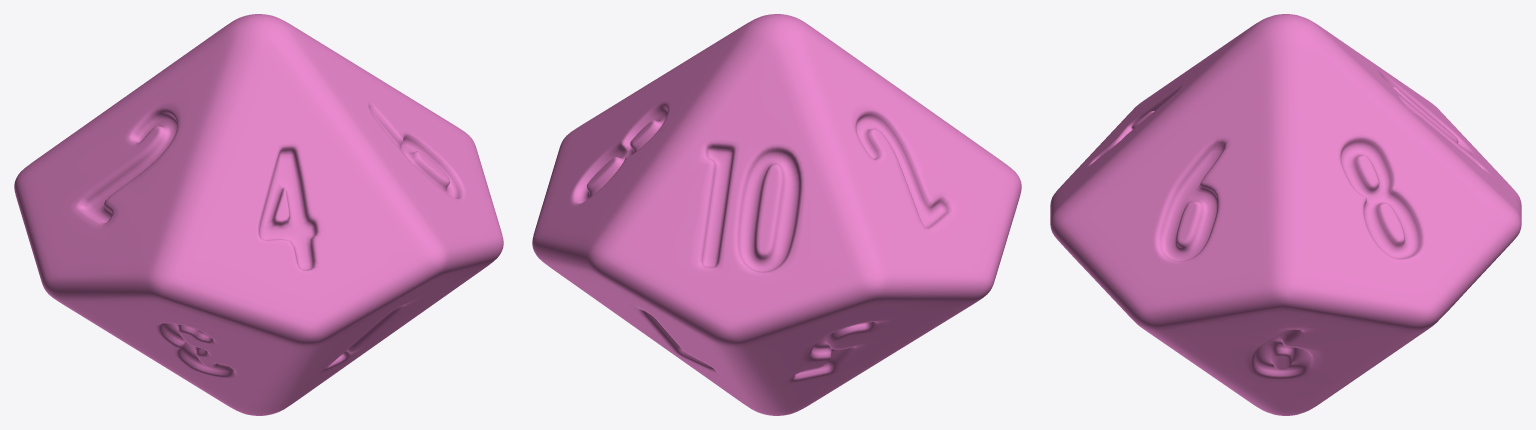
Rendered from Dice_D10.fbx.
The picture shows the model from 3 angles, left to right: view 1: azimuth 30°, elevation 25°; view 2: azimuth 150°, elevation 25°; view 3: azimuth 270°, elevation 25°; orthographic projection.
Parts seen in each view (by area): view 1: Icosphere; view 2: Icosphere; view 3: Icosphere.
Boxes of the visible parts, bbox=[...] form: Icosphere: bbox=[14, 14, 503, 415]; Icosphere: bbox=[532, 14, 1021, 415]; Icosphere: bbox=[1050, 14, 1521, 415].
Size of the model in its own units: 246 by 218 by 236.
